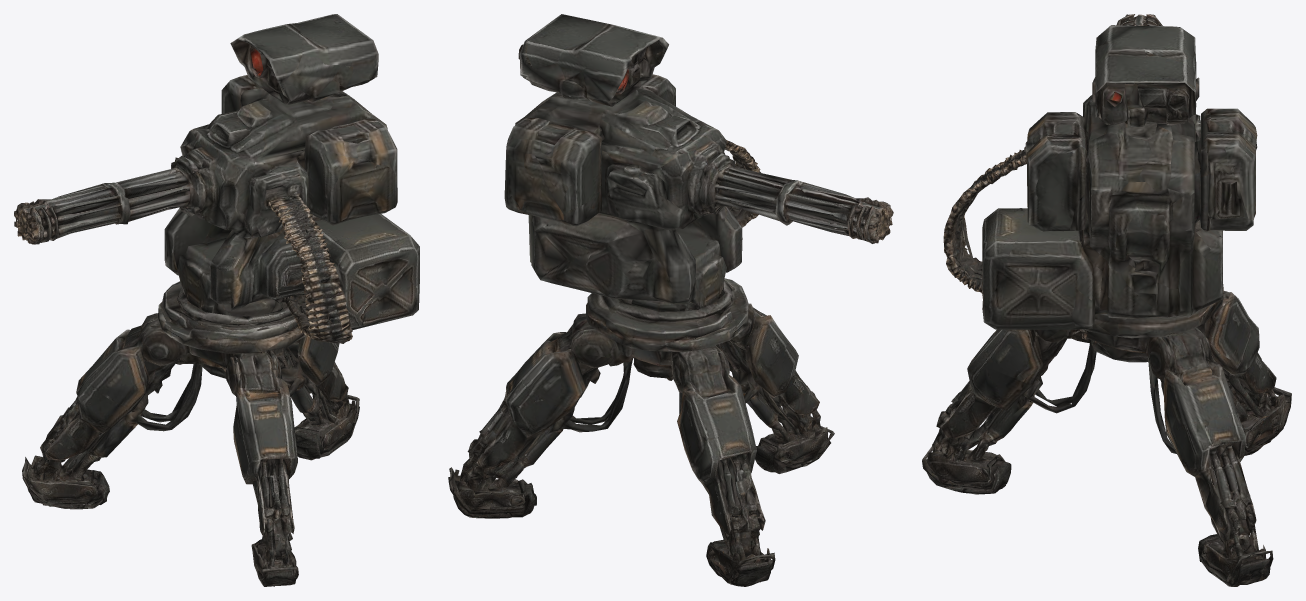
File: turret_gatling_heavy.glb
The picture shows the model from 3 angles, left to right: view 1: azimuth 30°, elevation 25°; view 2: azimuth 150°, elevation 25°; view 3: azimuth 270°, elevation 25°; orthographic projection. The views are drawn at different scales.
Size of the model in its own units: 1.68 by 1.9 by 1.29.
1 material, 1 textured.
